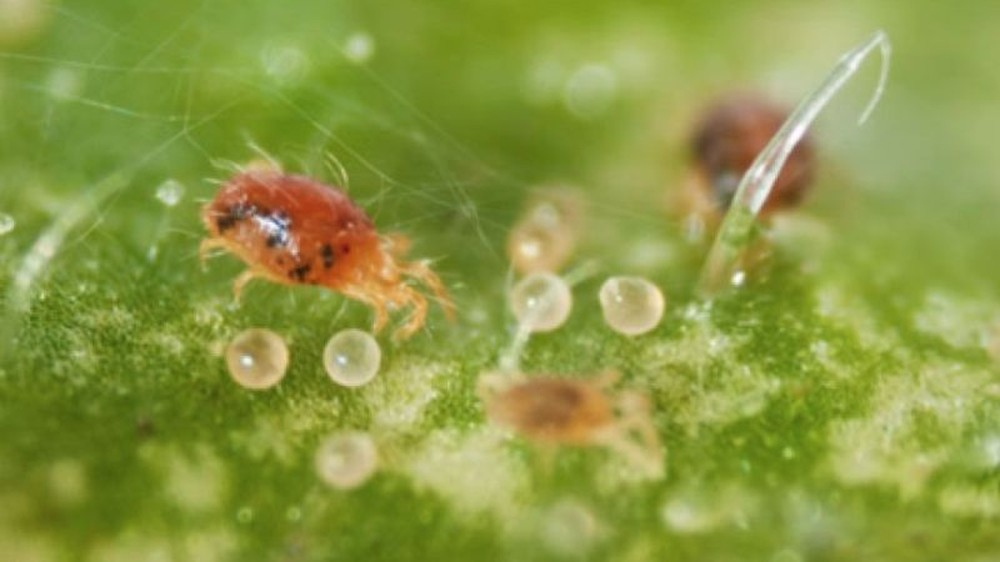Aracnido Rojo: (179, 147, 466, 353), (487, 365, 683, 483)
